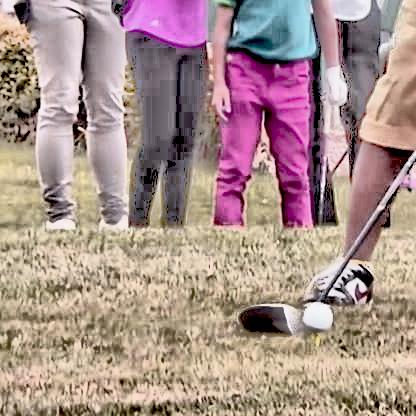golfball: (297, 296, 330, 332)
